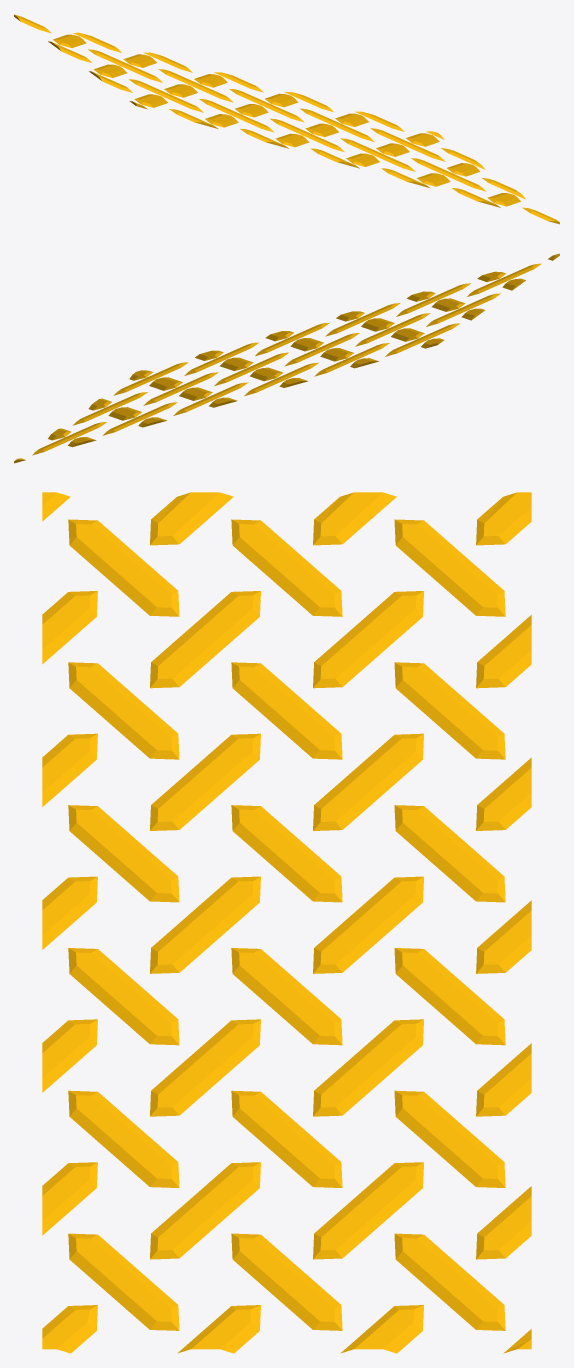
File: sp_grip_metal_angled_1x2.dae
The picture shows the model from 3 angles, top to bottom: view 1: azimuth 30°, elevation 25°; view 2: azimuth 150°, elevation 25°; view 3: azimuth 270°, elevation 25°; orthographic projection. The views are drawn at different scales.
Parts seen in each view (by area): view 1: grip_metal_angled_1x2; view 2: grip_metal_angled_1x2; view 3: grip_metal_angled_1x2.
Part boxes in pixels (<box>): grip_metal_angled_1x2: <box>14,14,559,224</box>; grip_metal_angled_1x2: <box>14,253,559,463</box>; grip_metal_angled_1x2: <box>42,492,531,1353</box>.
Size of the model in its own units: 0.5 by 0.25 by 0.2525.
